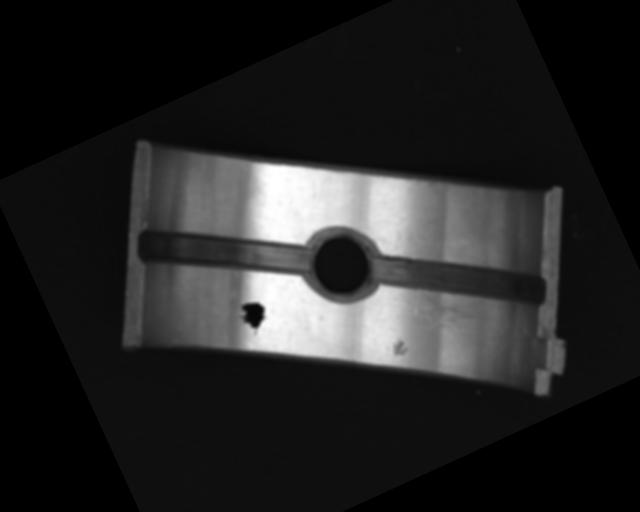blot: (233, 294, 274, 339)
bruise: (384, 337, 410, 361)
gap: (369, 197, 552, 361), (133, 175, 311, 331)
hole: (295, 219, 387, 311)
scratch: (407, 265, 497, 348)
